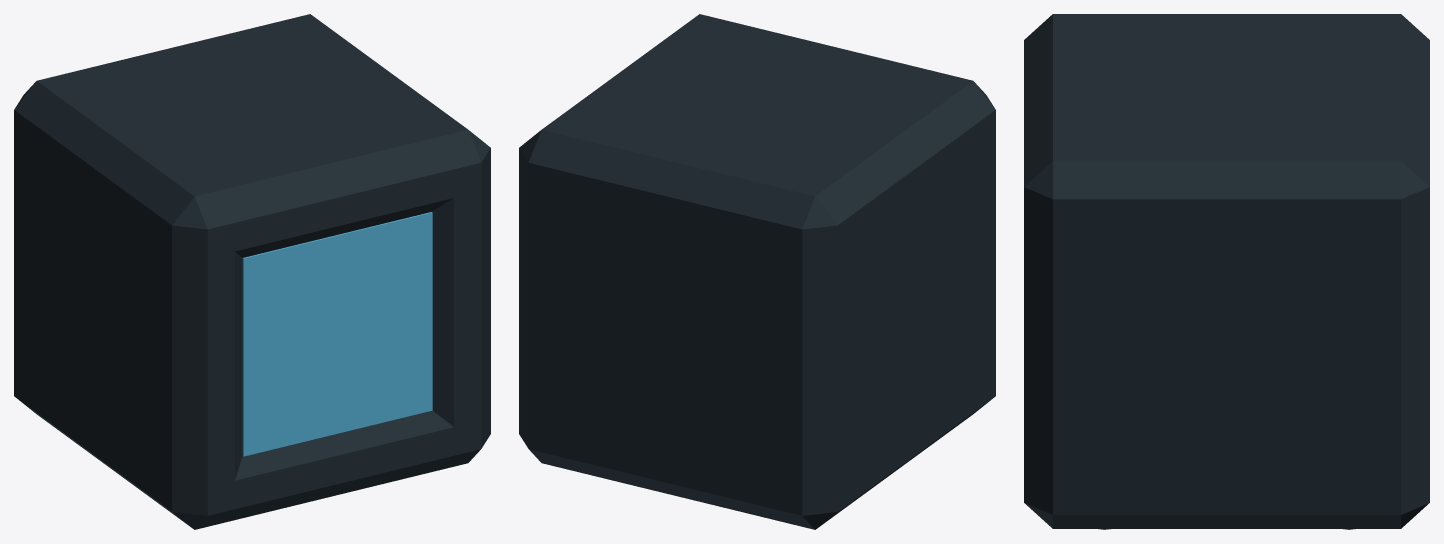
The model's file is clock.glb.
The picture shows the model from 3 angles, left to right: view 1: azimuth 30°, elevation 25°; view 2: azimuth 150°, elevation 25°; view 3: azimuth 270°, elevation 25°; orthographic projection. The views are drawn at different scales.
Visible parts, largest first — view 1: boxClock, screenClock; view 2: boxClock; view 3: boxClock.
Part boxes in pixels (bbox=[...]): boxClock: bbox=[14, 14, 490, 529]; screenClock: bbox=[242, 212, 432, 456]; boxClock: bbox=[519, 14, 995, 529]; boxClock: bbox=[1024, 14, 1429, 528].
Size of the model in its own units: 0.0271 by 0.028 by 0.0271.
